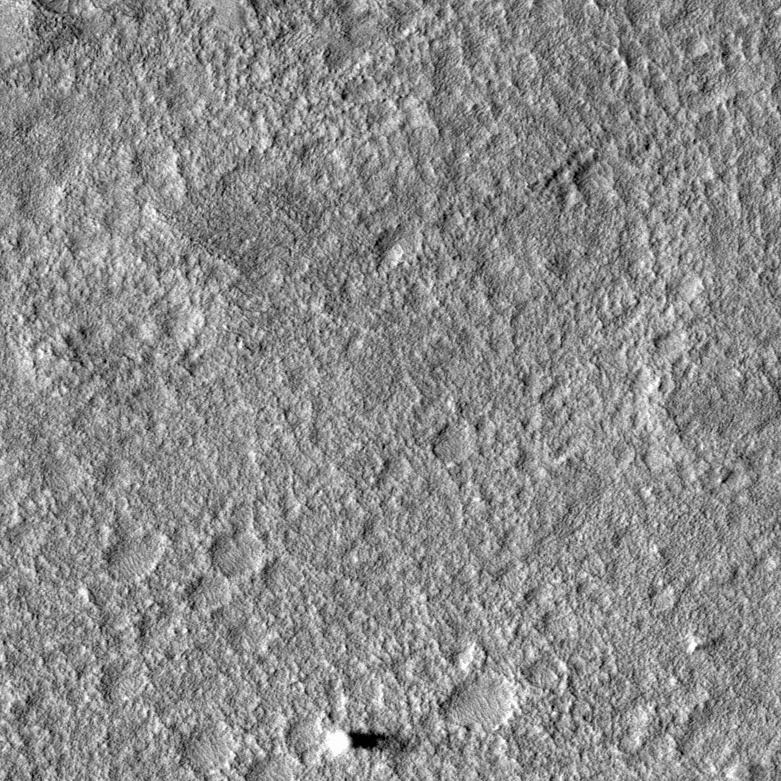dust_devil: (322, 727, 423, 757)
